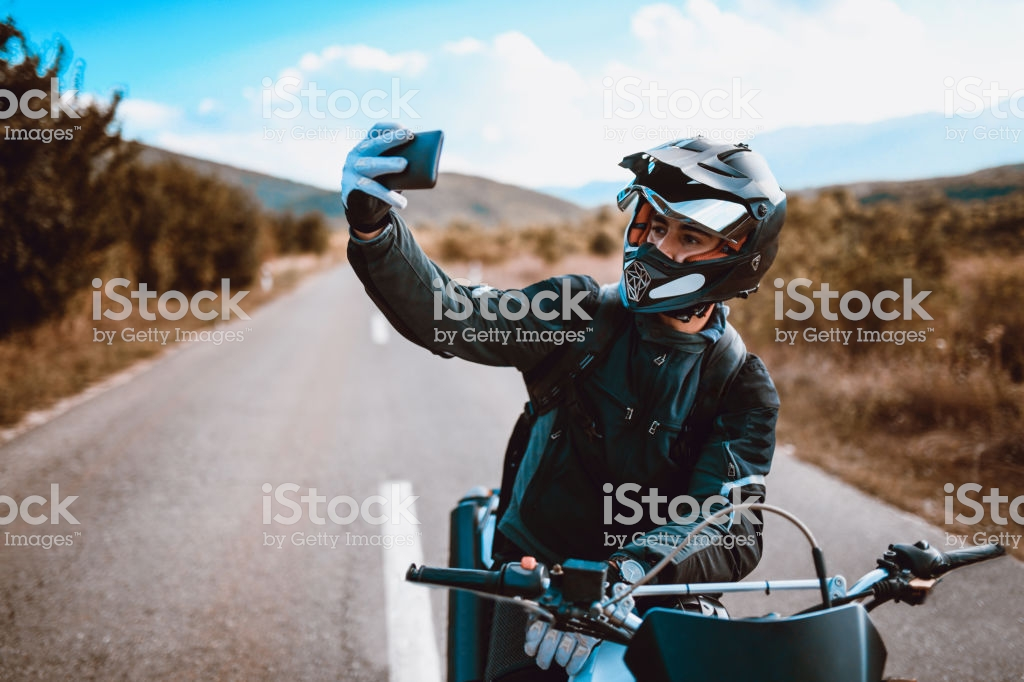helmet: (594, 124, 780, 315)
